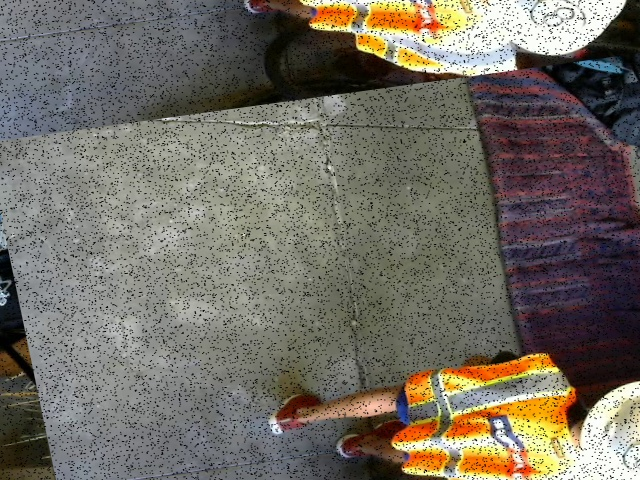eight: (618, 436, 639, 479)
